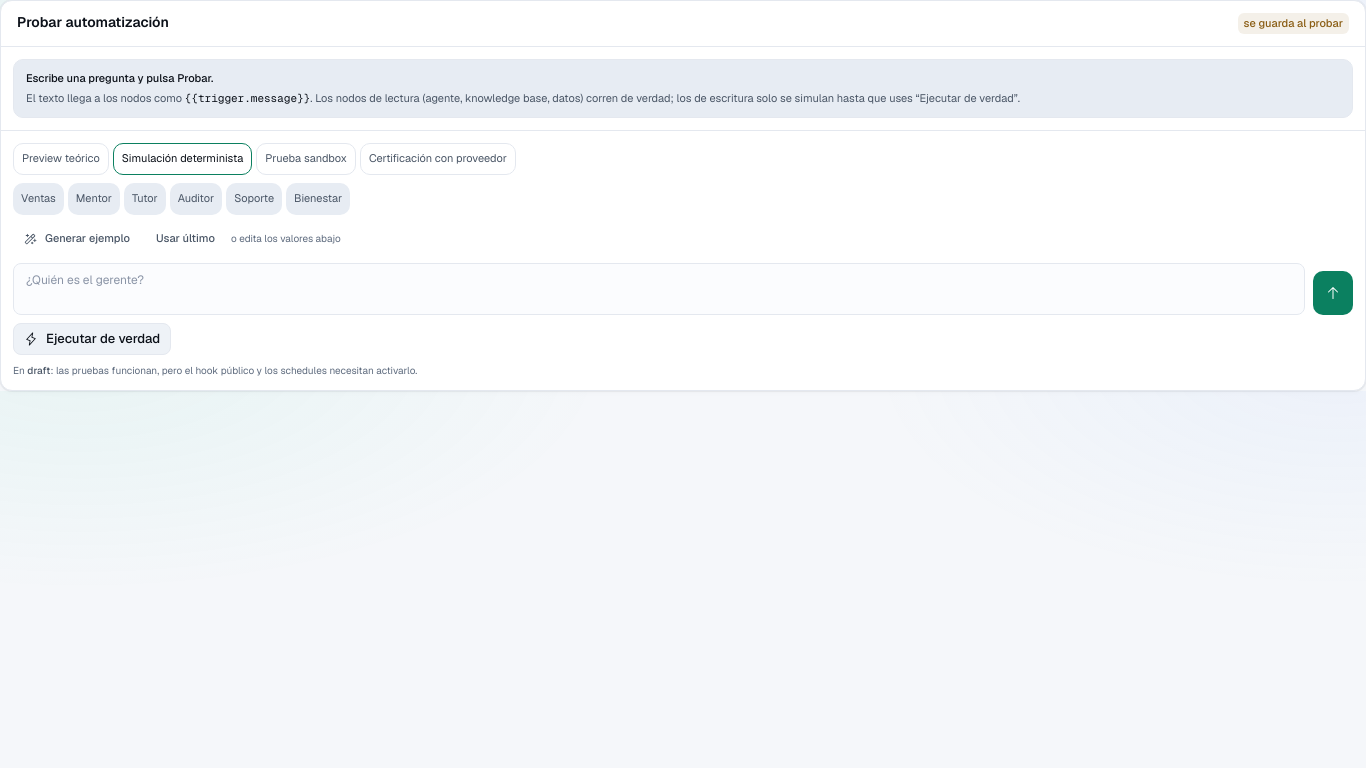
Test: WorkflowTestPanel (dock de prueba) › guarda el grafo antes de correr: el motor usa la versión persistida
Type "hola" into the text box with test id "wf-test-payload" at (659, 289), box [13, 262, 1305, 315]
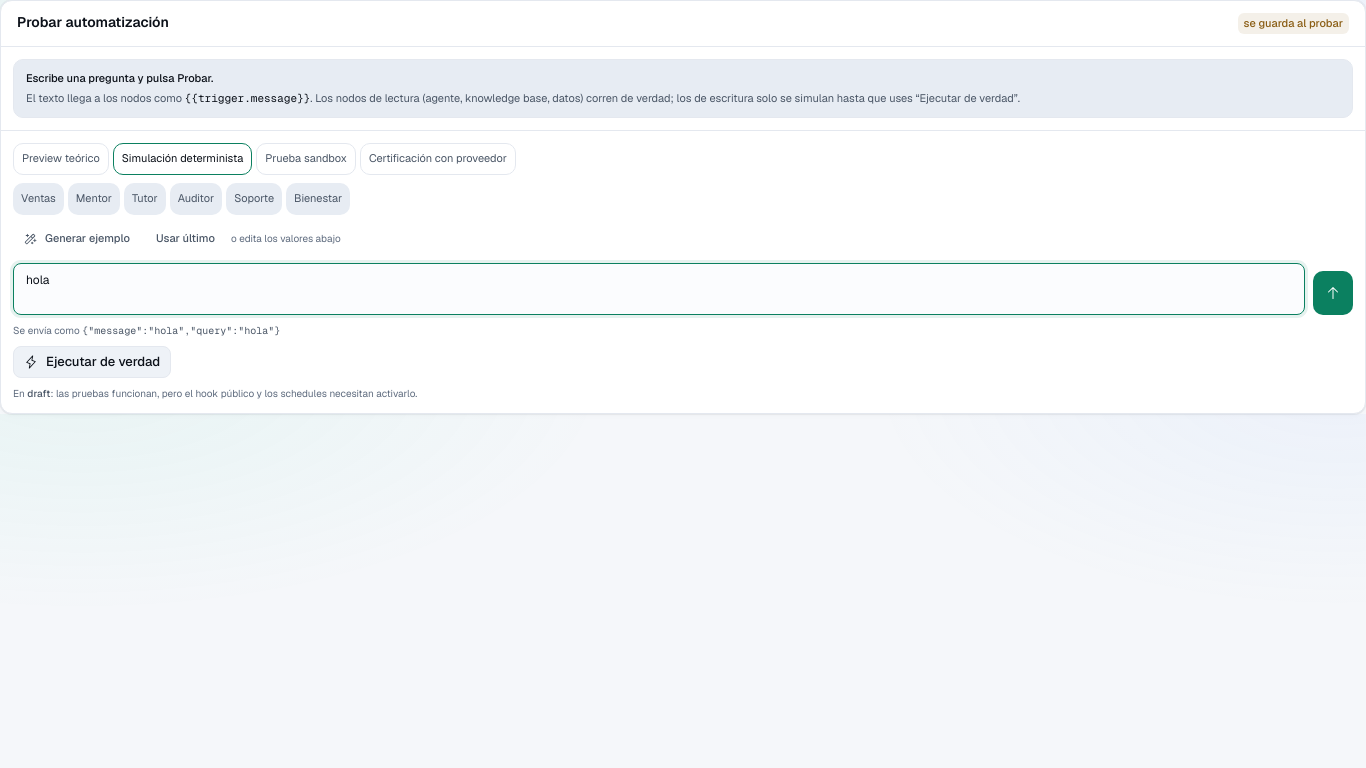
Click the button with test id "wf-run" at (92, 362), box [13, 346, 171, 378]
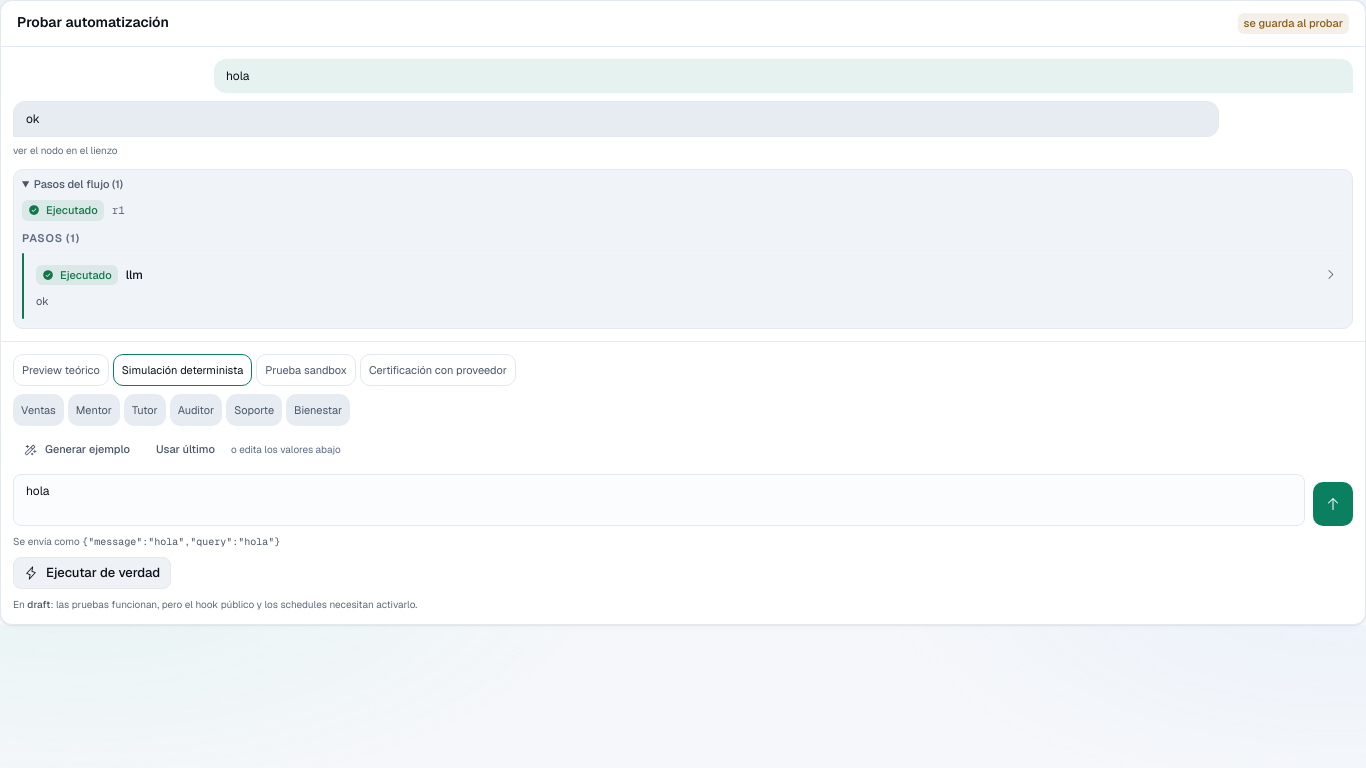
Check: the text with test id "wf-chat-answer" reads "ok", box [26, 110, 40, 126]
